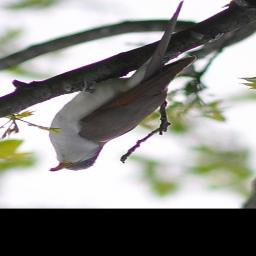Cuckoo: (47, 0, 198, 172)
